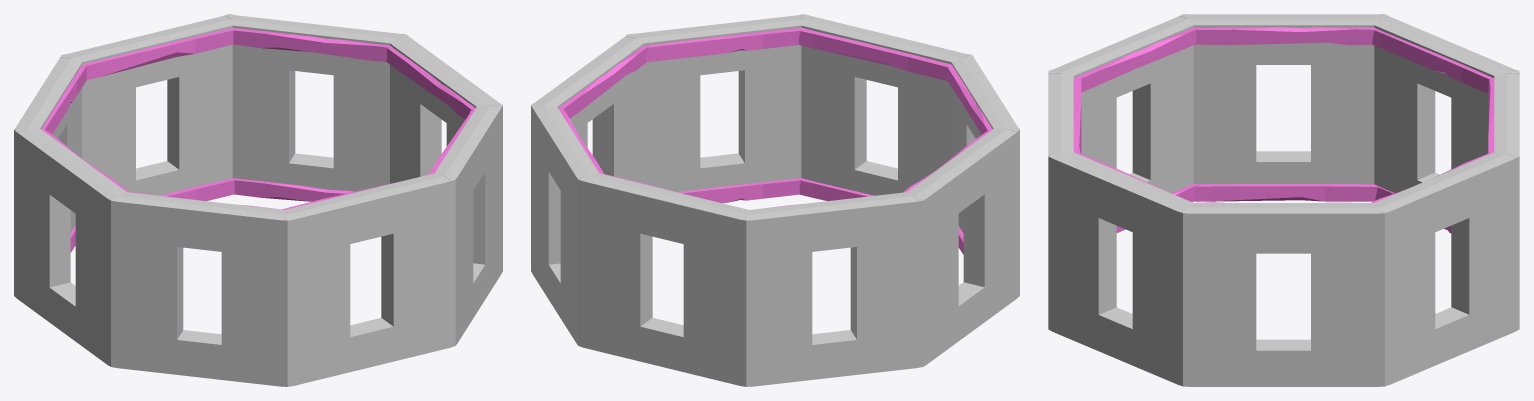
The model's file is SM_Tower_Round_7m_Windows_Nice_Fantasy_Base.fbx.
The picture shows the model from 3 angles, left to right: view 1: azimuth 30°, elevation 25°; view 2: azimuth 150°, elevation 25°; view 3: azimuth 270°, elevation 25°; orthographic projection. The views are drawn at different scales.
Parts seen in each view (by area): view 1: SM_Tower_Round_7m_Windows_Nice_Fantasy_Base; view 2: SM_Tower_Round_7m_Windows_Nice_Fantasy_Base; view 3: SM_Tower_Round_7m_Windows_Nice_Fantasy_Base.
Boxes of the visible parts, x1,y1,x2,y2 form: SM_Tower_Round_7m_Windows_Nice_Fantasy_Base: (14, 14, 502, 386); SM_Tower_Round_7m_Windows_Nice_Fantasy_Base: (531, 14, 1019, 386); SM_Tower_Round_7m_Windows_Nice_Fantasy_Base: (1048, 14, 1519, 386).
Bounding box in the file's own units: 7.4 × 3.03 × 7.4.
